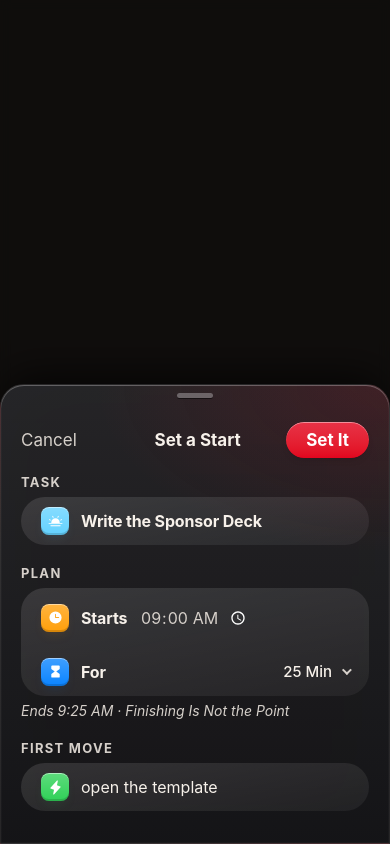
Test case: RitualSheet › refuses a first move that is not a move, and says why
Clear the field named "First move" at (215, 787), box 81,771 -> 349,803
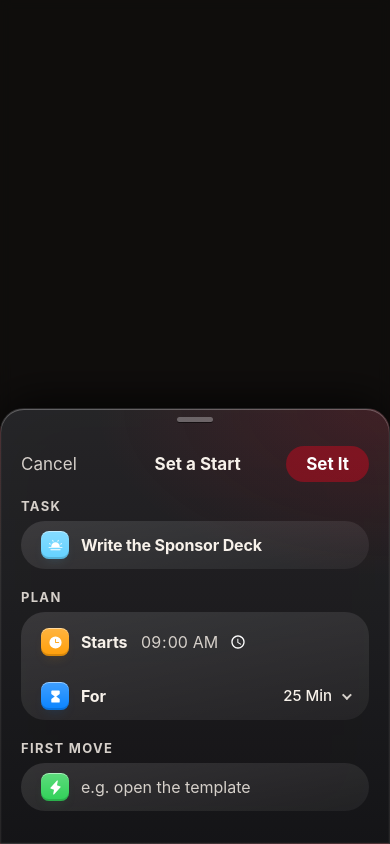
Click the button "Set It" at (328, 464), box 286,446 -> 369,482
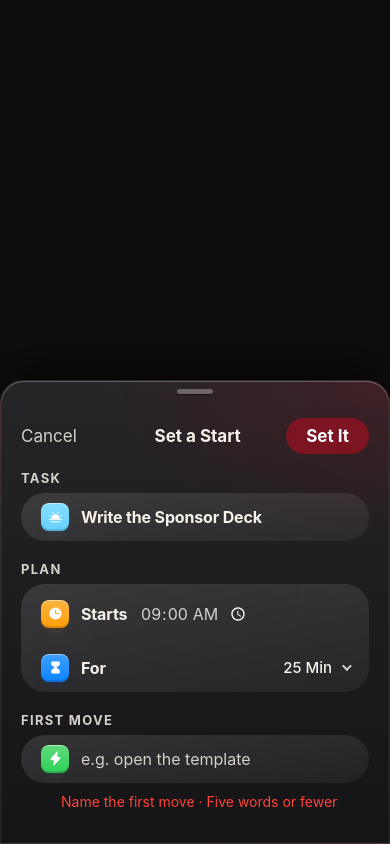
Expected: the text "Name the first move · Five words or fewer" is shown, 61,793 -> 337,810
